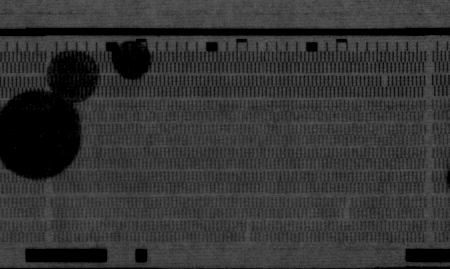Broken hole: (242, 221, 256, 245), (341, 196, 354, 221), (379, 74, 390, 87)
